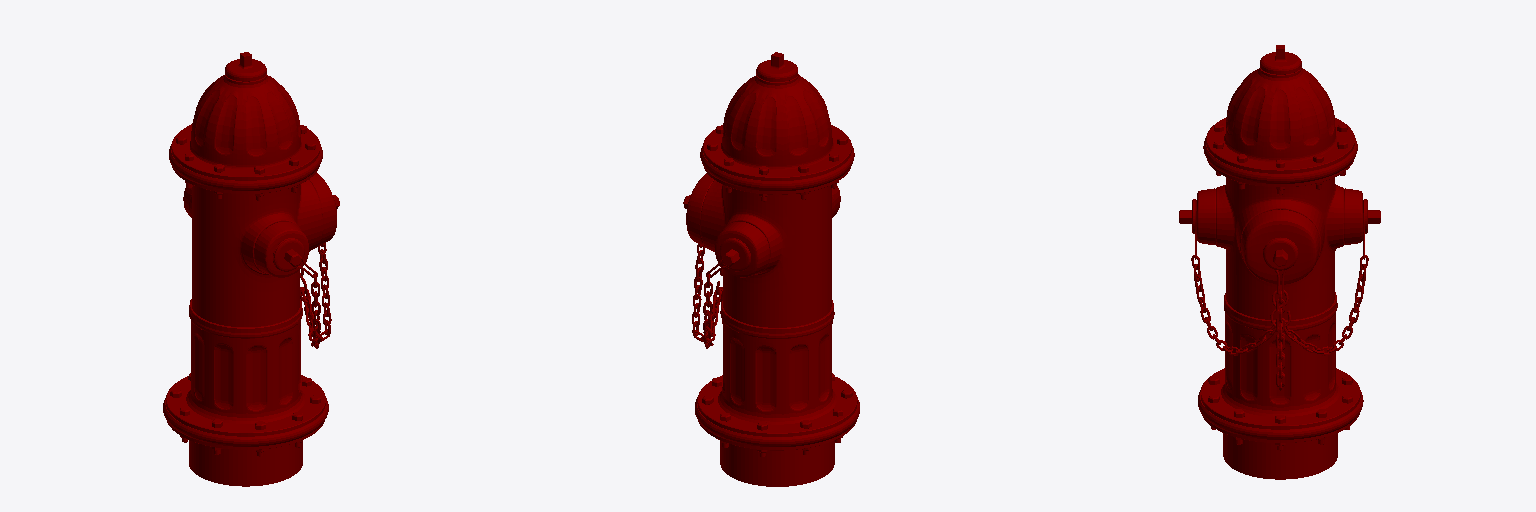
The model's file is firehydrant_nsoc.obj.
3 views of the same model, side by side, from view 1: azimuth 30°, elevation 25°; view 2: azimuth 150°, elevation 25°; view 3: azimuth 270°, elevation 25° (orthographic).
Visible parts, largest first — view 1: fire_hydrant; view 2: fire_hydrant; view 3: fire_hydrant.
Part boxes in pixels (bbox=[...]): fire_hydrant: bbox=[163, 52, 339, 486]; fire_hydrant: bbox=[683, 52, 859, 486]; fire_hydrant: bbox=[1179, 45, 1380, 479].
Size of the model in its own units: 11.13 by 26.62 by 11.94.